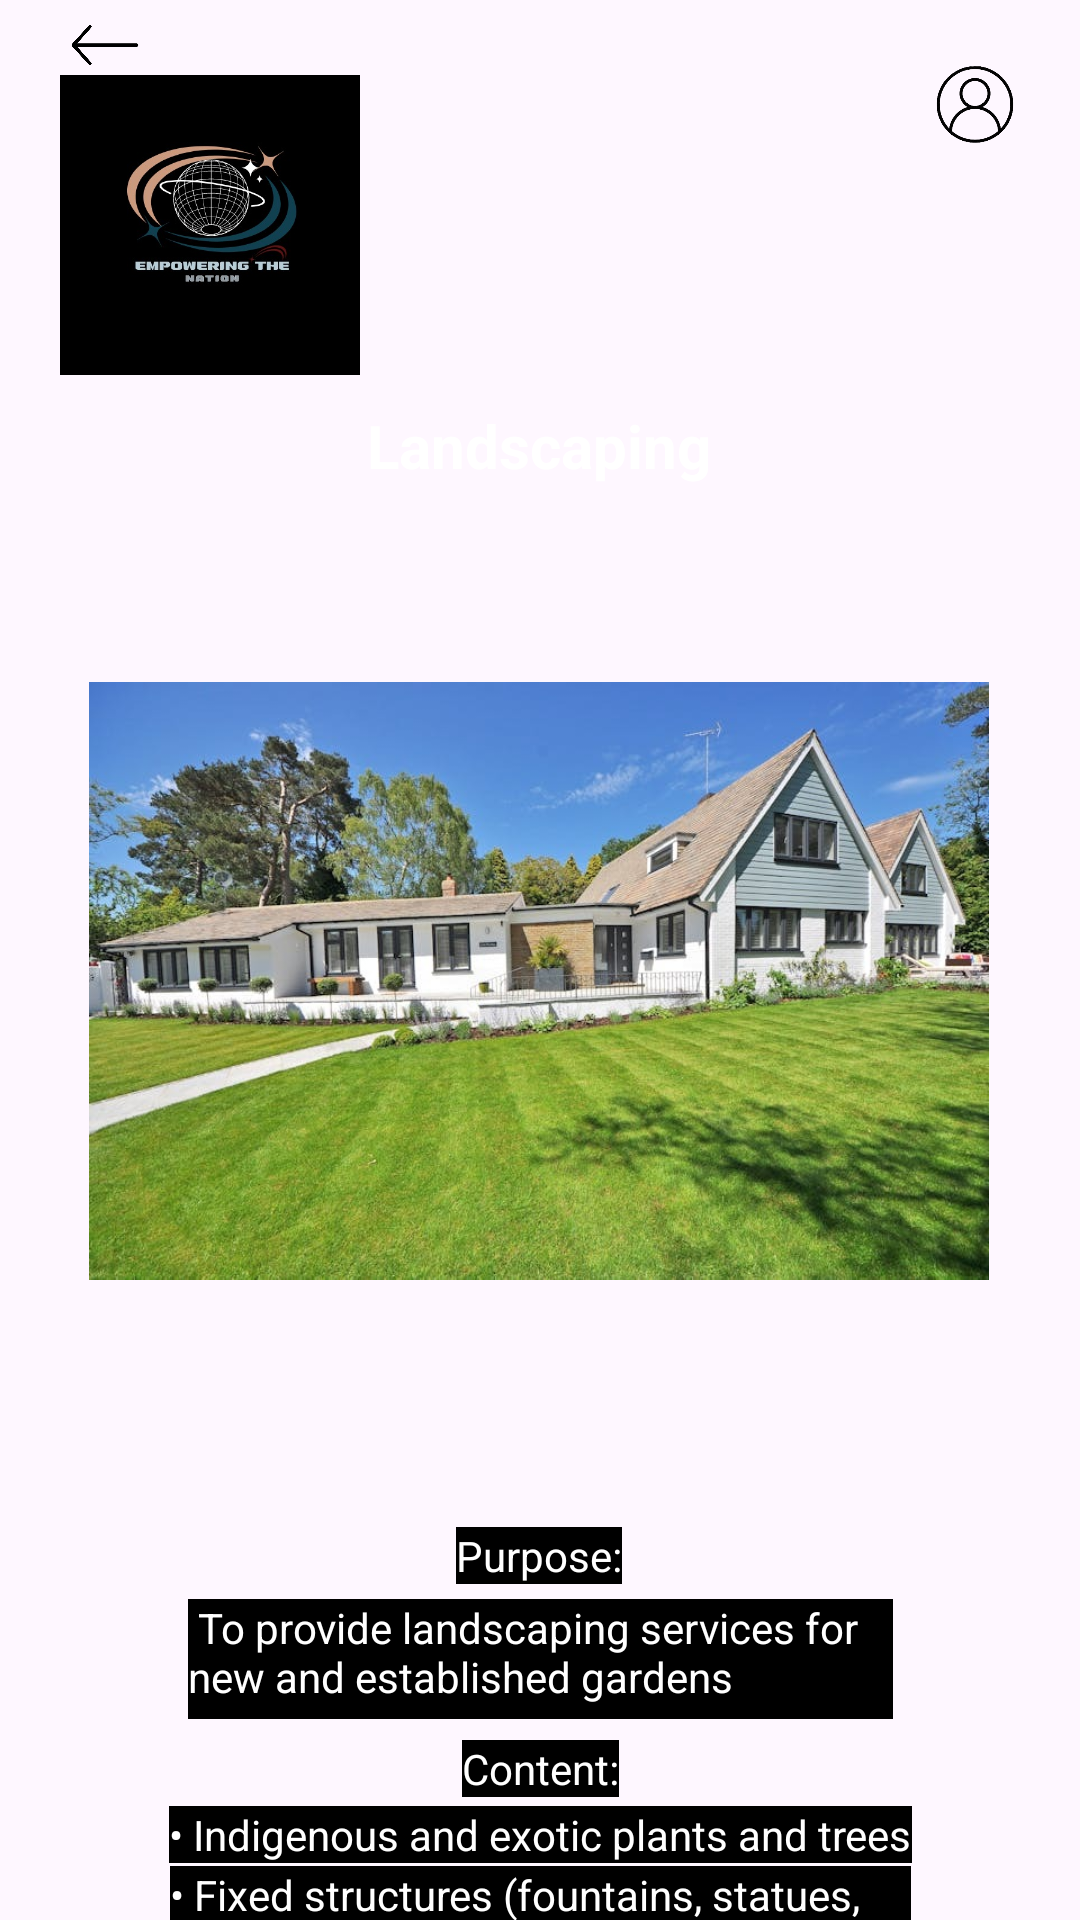

Icon bounding boxes for this 1080 x 1920 phone screenshot, format detection(x1, y1, x2, y2):
back: detection(72, 25, 138, 65)
